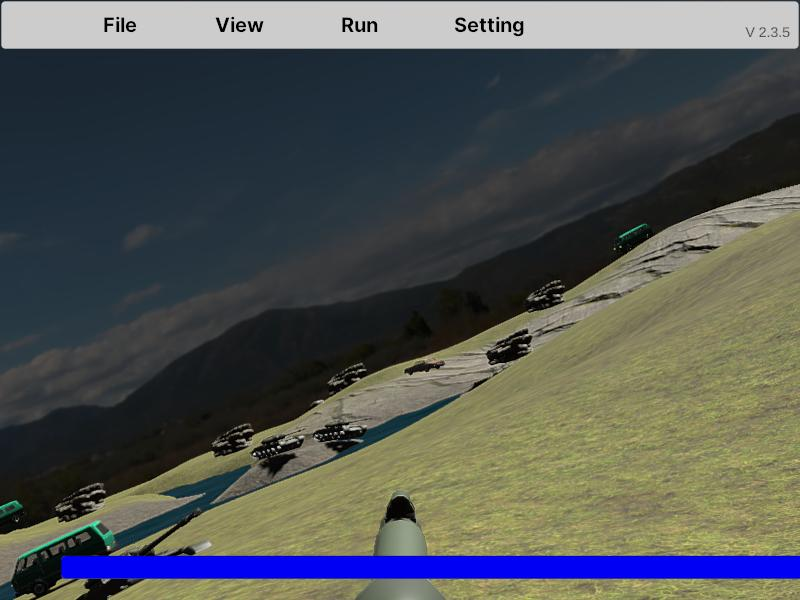Tank: (251, 428, 306, 461), (486, 328, 533, 365), (314, 417, 374, 444), (212, 423, 255, 456)
car: (11, 522, 118, 599), (614, 223, 654, 254), (0, 499, 24, 535)
